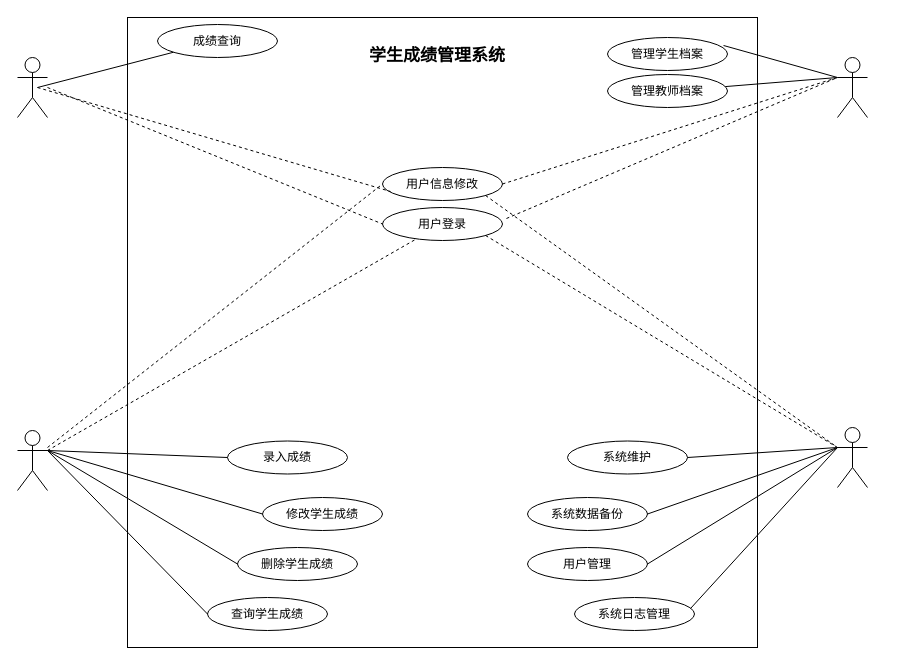
Some shapes in this 900 by 665 pixel diagram are drawn without their labels. The box of each missing label's shape, as (x1, y1, x2, y2) in pixels:
学生: (16, 56, 48, 118)
成绩管理员: (836, 56, 868, 118)
教师: (16, 430, 48, 490)
系统管理员: (836, 426, 868, 488)
